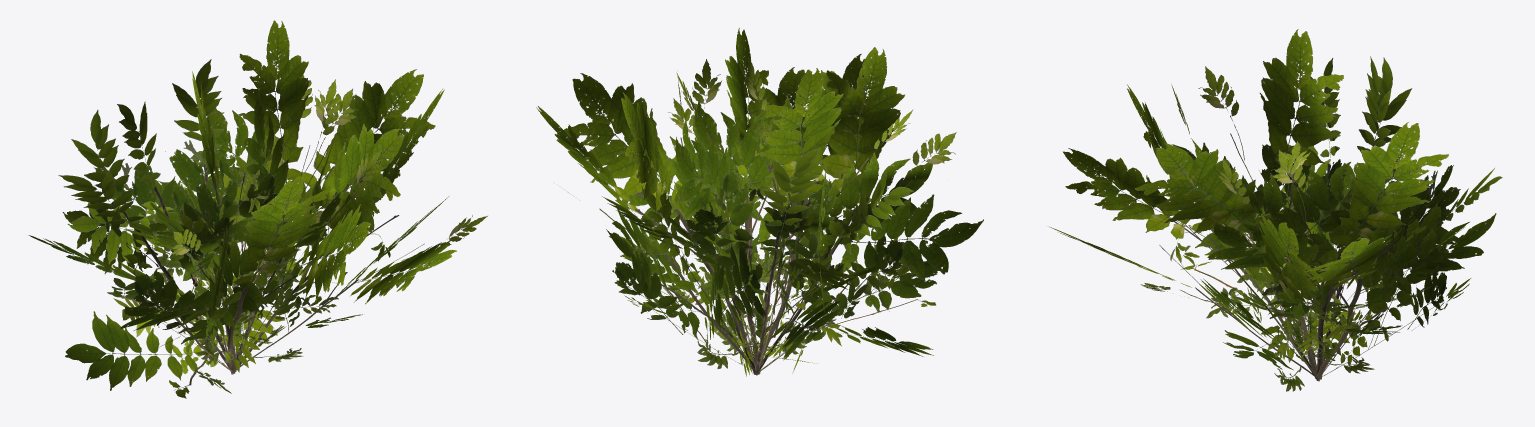
File: Bush.fbx
3 renders of one model, left to right at view 1: azimuth 30°, elevation 25°; view 2: azimuth 150°, elevation 25°; view 3: azimuth 270°, elevation 25°, orthographic. The views are drawn at different scales.
Visible parts, largest first — view 1: Bush; view 2: Bush; view 3: Bush.
Boxes of the visible parts, x1,y1,x2,y2 form: Bush: (29, 20, 487, 398); Bush: (536, 28, 983, 376); Bush: (1049, 29, 1502, 391).
Size of the model in its own units: 4.09 by 3.23 by 4.02.
